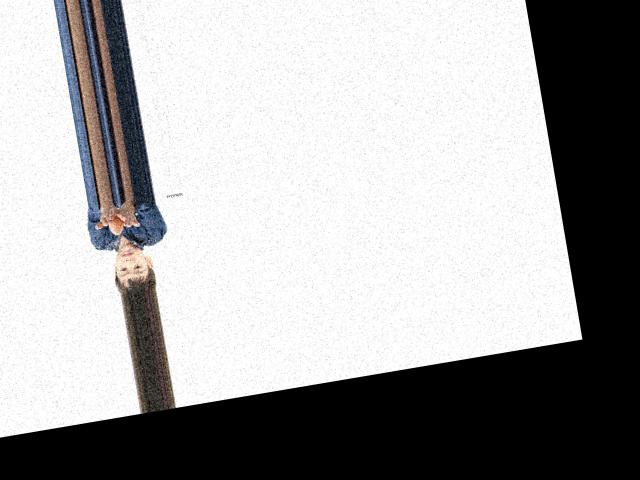egg: (107, 215, 125, 235)
